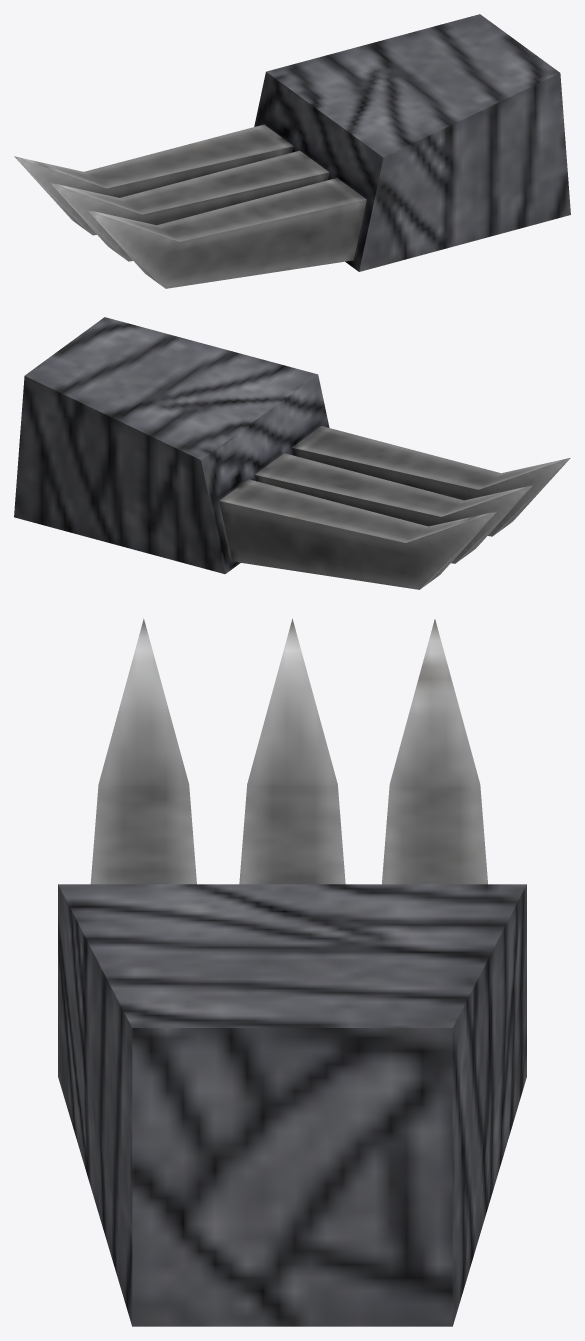
The model's file is claw002.fbx.
3 views of the same model, one above another, from view 1: azimuth 30°, elevation 25°; view 2: azimuth 150°, elevation 25°; view 3: azimuth 270°, elevation 25° (orthographic). The views are drawn at different scales.
Parts seen in each view (by area): view 1: claw002; view 2: claw002; view 3: claw002.
Boxes of the visible parts, box(x1,y1,x2,y2) form: claw002: box(14, 14, 570, 288); claw002: box(14, 317, 570, 589); claw002: box(58, 618, 526, 1326).
Bounding box in the file's own units: 0.2974 × 0.0854 × 0.1258.
